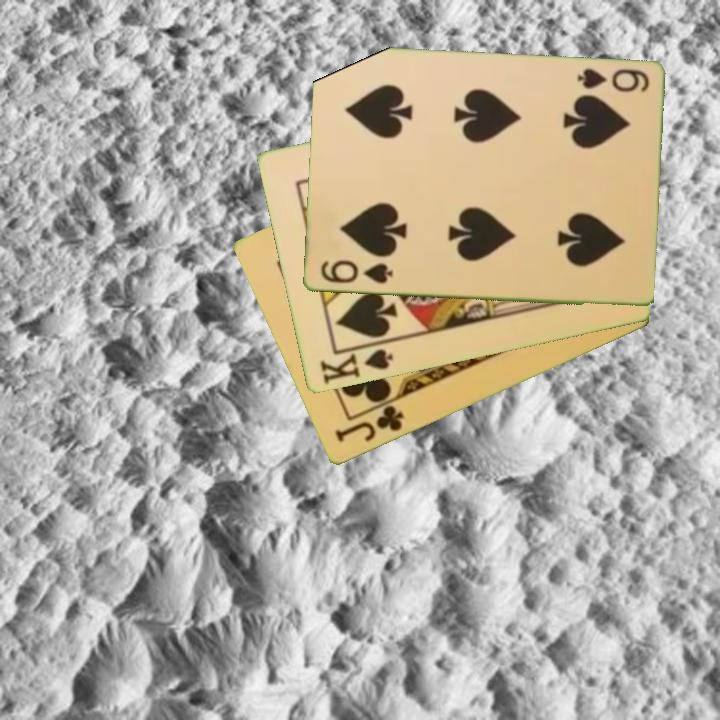6s: (573, 65, 651, 96), (317, 257, 395, 287)
Jc: (331, 402, 407, 446)
Ks: (316, 346, 396, 388)
